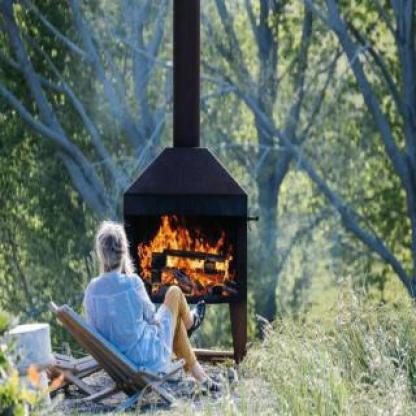fire: (134, 210, 235, 304)
